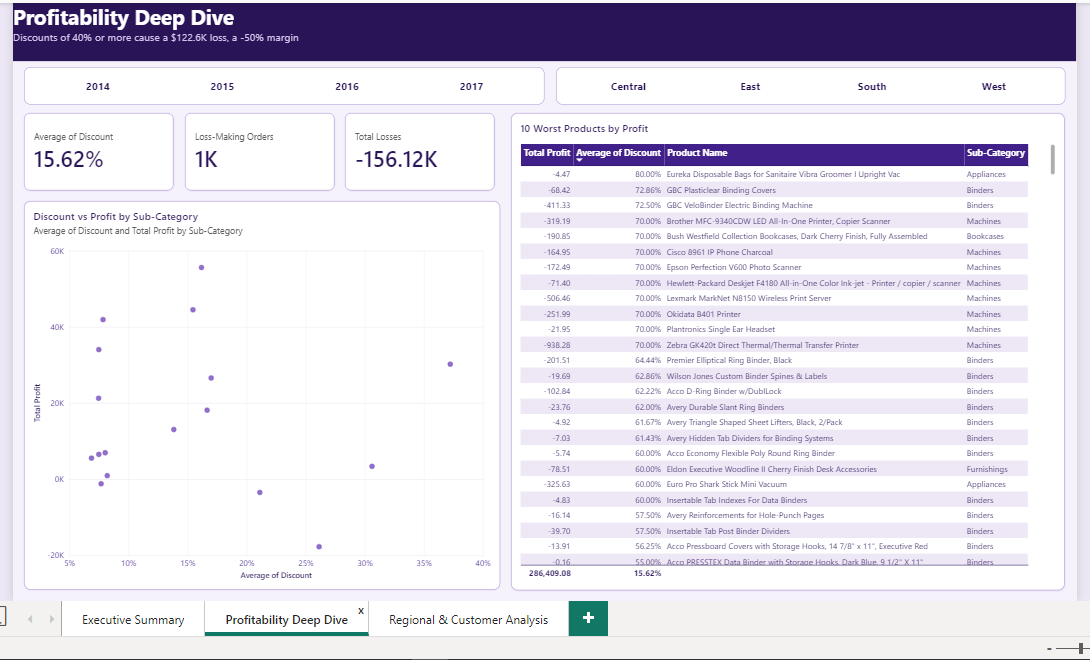

This screenshot's page, from the dashboard's own definition file:
{"tool":"powerbi","page":{"name":"Profitability Deep Dive","canvas":[1920,1080],"ordinal":1},"visuals":[{"type":"cardVisual","fields":{"Data":["Avg(Fact_Orders.Discount)"]},"box":[20,198,270,140],"z":1000},{"type":"cardVisual","fields":{"Data":["Key Measures.Loss-Making Orders"]},"box":[310,198,270,140],"z":1001},{"type":"cardVisual","fields":{"Data":["Key Measures.Total Losses"]},"box":[600,198,270,140],"z":1002},{"type":"scatterChart","title":"Discount vs Profit by Sub-Category","fields":{"Category":["Fact_Orders.Sub-Category"],"X":["Avg(Fact_Orders.Discount)"],"Y":["Key Measures.Total Profit"]},"box":[20,358,860,702],"z":3000},{"type":"tableEx","title":"10 Worst Products by Profit","fields":{"Values":["Key Measures.Total Profit","Avg(Fact_Orders.Discount)","Fact_Orders.Product Name","Fact_Orders.Sub-Category"]},"box":[900,198,1000,862],"z":4000},{"type":"slicer","fields":{"Values":["Dim_Date.Year"]},"box":[20,115,940,68],"z":7000},{"type":"slicer","fields":{"Values":["Fact_Orders.Region"]},"box":[980,115,920,68],"z":7001},{"type":"textbox","box":[0,0,1920,105],"z":9000}]}

Visuals, with their boxes on the page's 1920x1080 design canvas (x1, y1, x2, y2). These are canvas units, not pixel positions in the 1090x660 screenshot, which may show the page scaled, cropped or inside an application window:
cardVisual - Avg(Fact_Orders.Discount): pyautogui.locateOnScreen(20, 198, 290, 338)
cardVisual - Key Measures.Loss-Making Orders: pyautogui.locateOnScreen(310, 198, 580, 338)
cardVisual - Key Measures.Total Losses: pyautogui.locateOnScreen(600, 198, 870, 338)
"Discount vs Profit by Sub-Category" scatterChart: pyautogui.locateOnScreen(20, 358, 880, 1060)
"10 Worst Products by Profit" tableEx: pyautogui.locateOnScreen(900, 198, 1900, 1060)
slicer - Dim_Date.Year: pyautogui.locateOnScreen(20, 115, 960, 183)
slicer - Fact_Orders.Region: pyautogui.locateOnScreen(980, 115, 1900, 183)
textbox: pyautogui.locateOnScreen(0, 0, 1920, 105)
